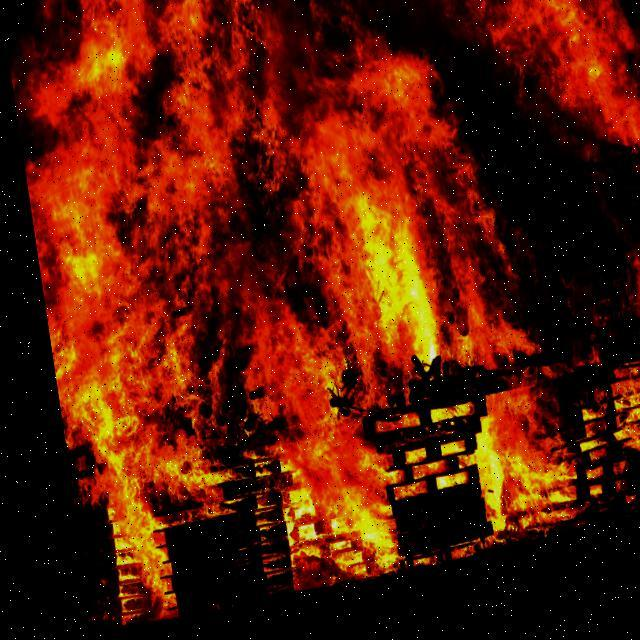Fire: (4, 0, 639, 632)
